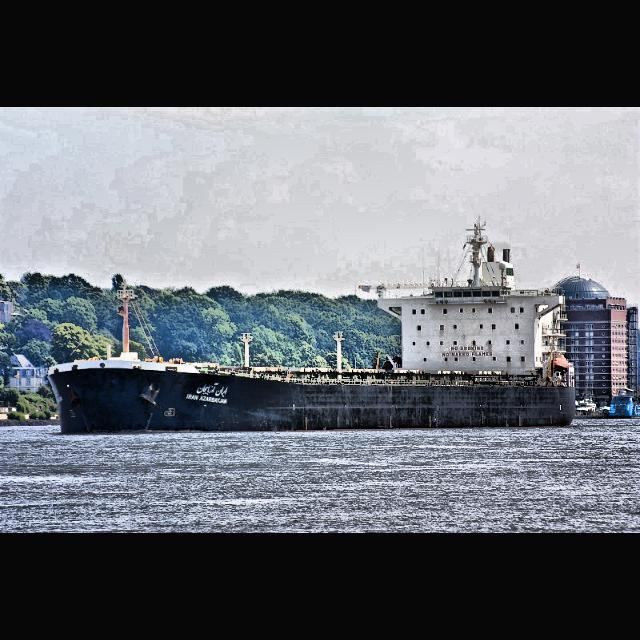bulk_carrier: (46, 212, 576, 436)
